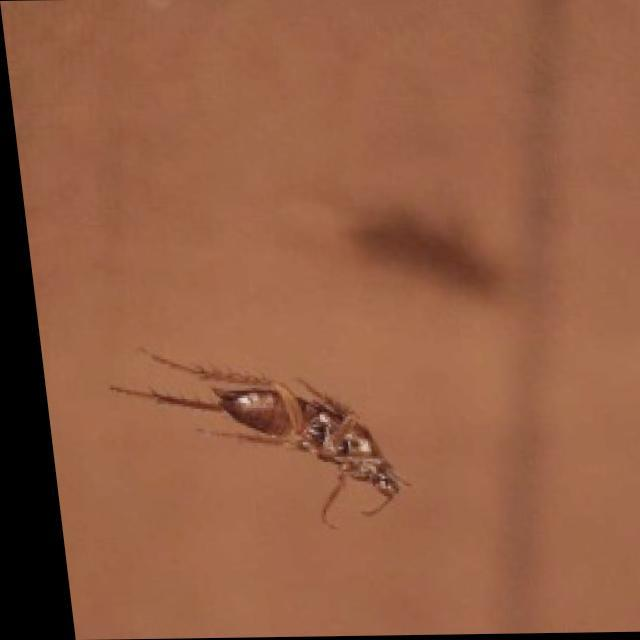cockroach: (106, 342, 414, 532)
